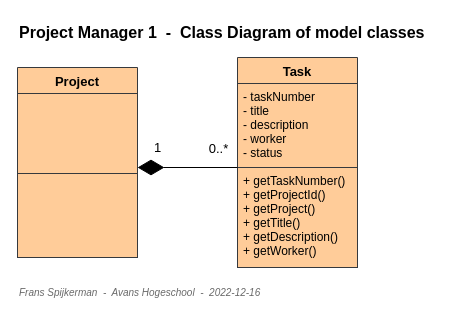
The diagram is 465 pixels wide and 324 high, and some of its shapes have lost their labels. The centre of each missing label's shape, as x and y in pixels:
+ getProjectID() + getTitle() + getDescription + getOwner(): (x=77, y=215)
- projectID - title - description - owner: (x=77, y=133)
